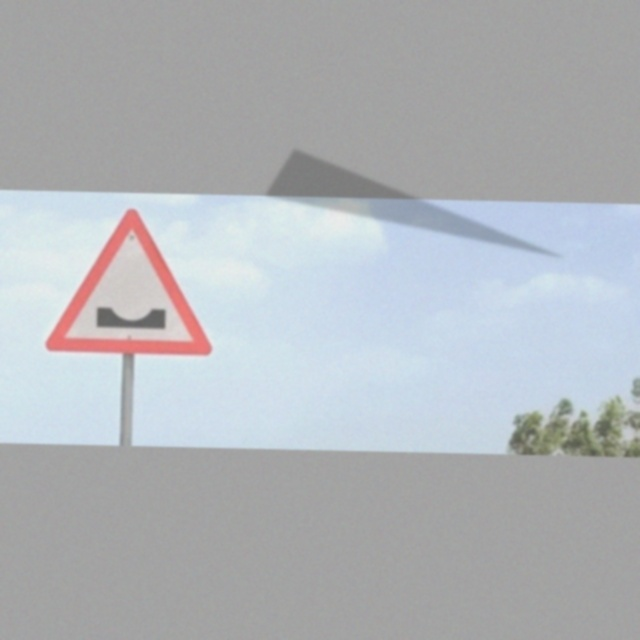Dangerous_Dip: (50, 208, 216, 356)
